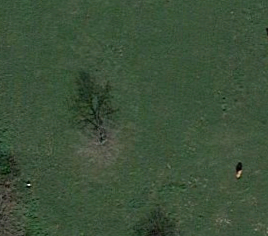tree: (71, 113, 129, 172)
